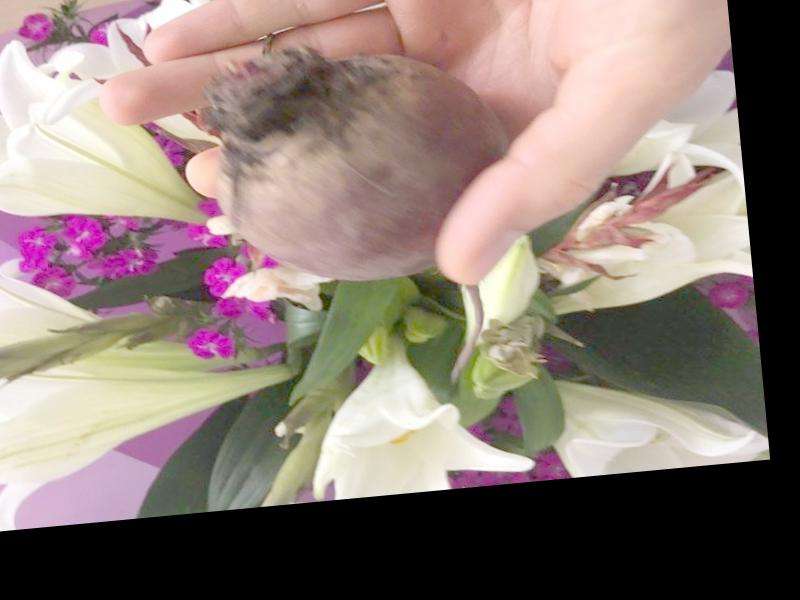Beet: (199, 37, 525, 402)
